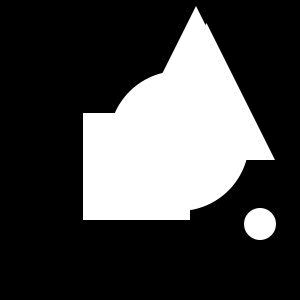circle: (83, 113, 190, 220)
rectangle: (109, 71, 249, 211), (244, 208, 276, 240)
triangle: (138, 23, 275, 160), (146, 6, 246, 106)
